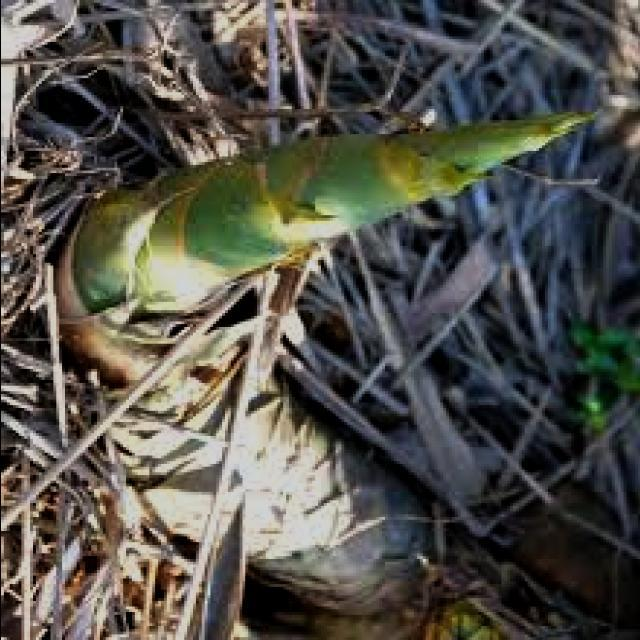Bamboo Shoots: (88, 70, 568, 328)
